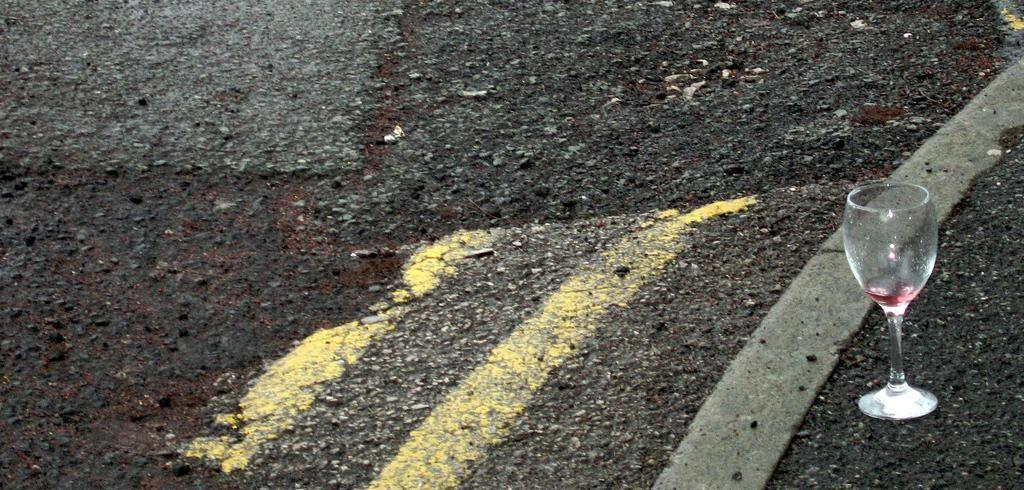glass-wine: (838, 181, 939, 422)
